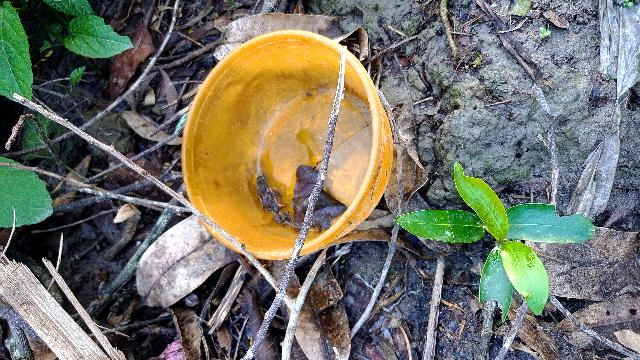hardplastic: (186, 28, 389, 257)
